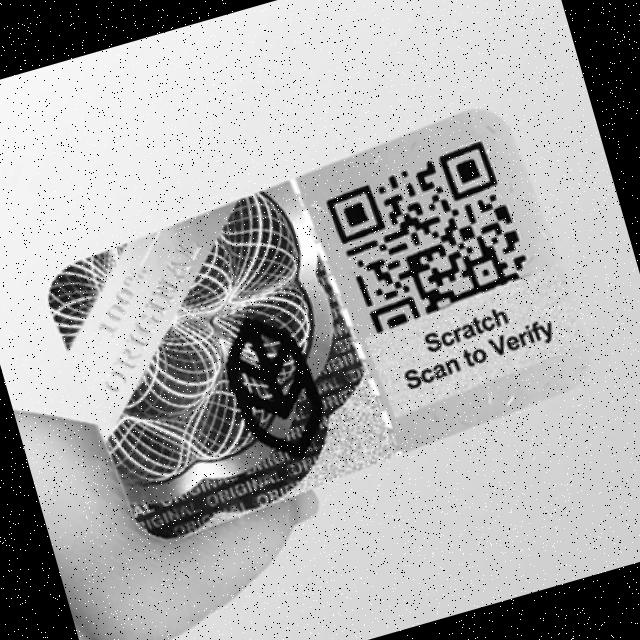QR-codes: (319, 134, 540, 336)
